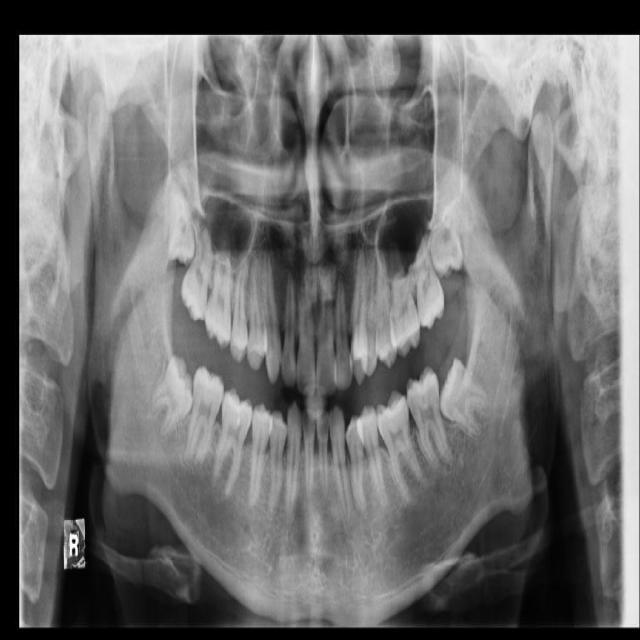3M ESPE Implant: (164, 172, 196, 266)
73: (594, 564, 601, 578)
BioHorizons Implant: (411, 235, 447, 330)
BioLife Implant: (427, 167, 464, 278)
Biomet 3i Implant: (432, 355, 497, 436)
Blue Sky Bio Implant: (401, 364, 454, 471)
Caries: (177, 221, 219, 322)
Implant: (183, 364, 227, 468)
Keystone Dental Implant: (137, 353, 210, 442)
